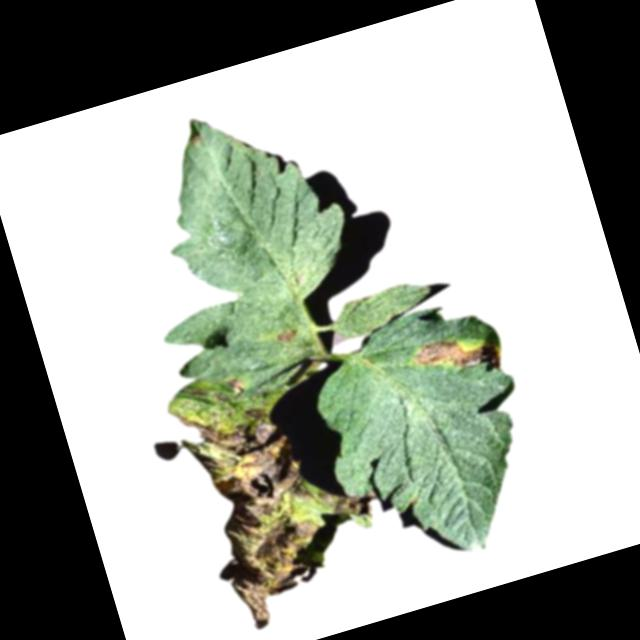Early_blight: (167, 350, 402, 637), (407, 318, 513, 397), (274, 327, 299, 346)
